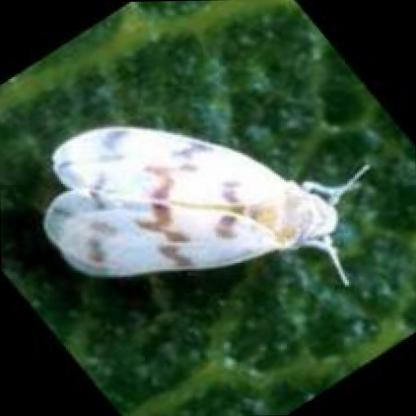whitefly: (41, 125, 338, 279)
